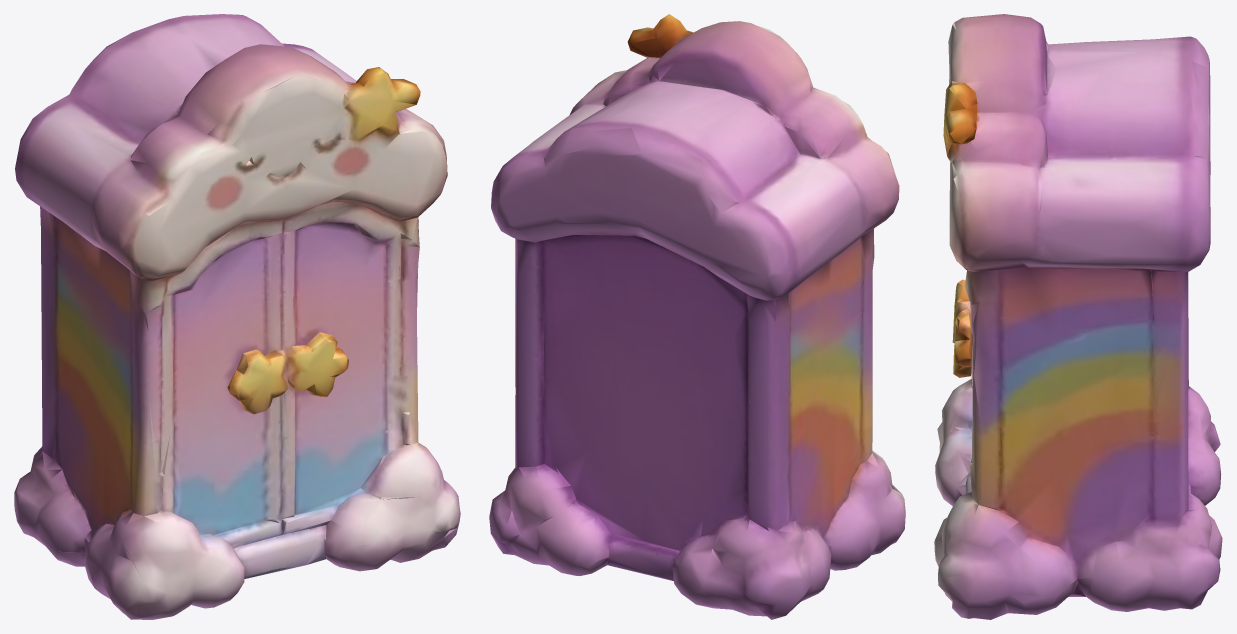
Rendered from cabinet16.glb.
3 views of the same model, side by side, from view 1: azimuth 30°, elevation 25°; view 2: azimuth 150°, elevation 25°; view 3: azimuth 270°, elevation 25° (orthographic). The views are drawn at different scales.
Size of the model in its own units: 0.2137 by 0.3118 by 0.154.
Materials: 1 (1 with a texture image).
